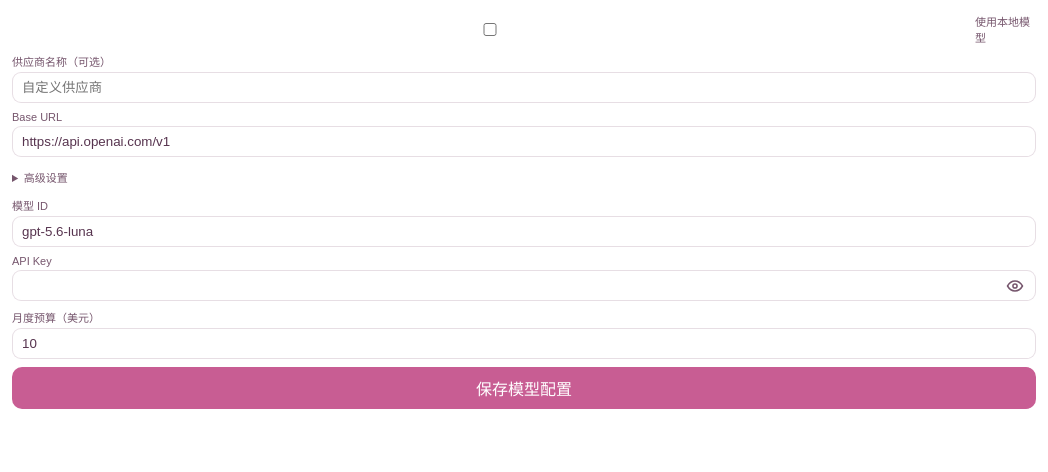
Test case: ModelSettings › offers a local privacy mode with an optional API key
Click the checkbox labelled "使用本地模型" at (490, 29), box [16,22,964,36]
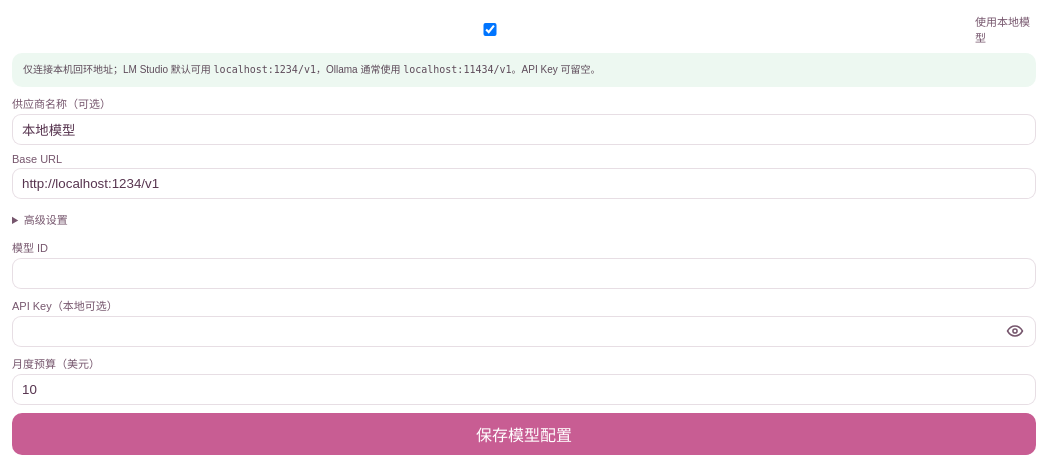
Check: the field labelled "Base URL" holds "http://localhost:1234/v1", box [12,168,1036,198]
Check: the text "API Key 可留空" is shown, box [512,64,600,75]
